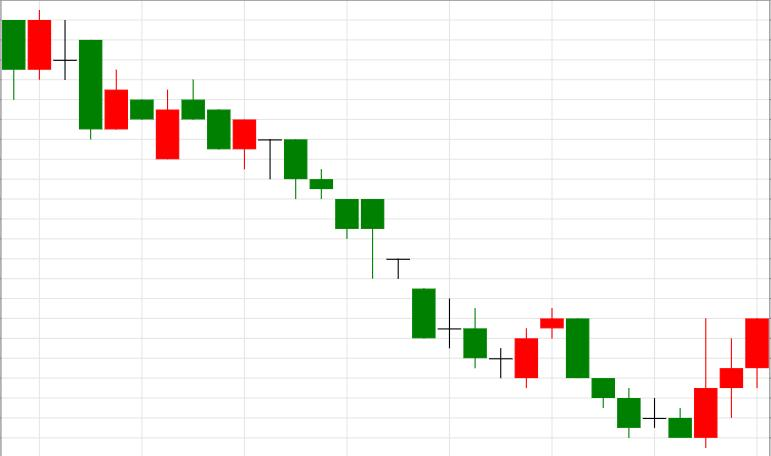bullish_engulfing_rise: (566, 318, 718, 447)
